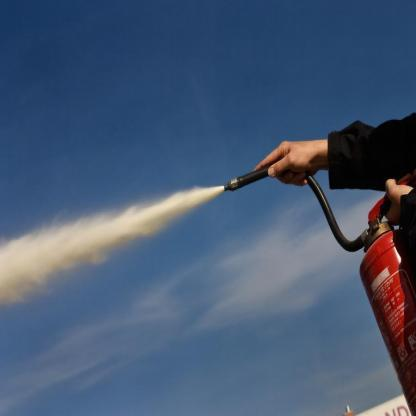Fire Extinguisher: (192, 161, 416, 416)
